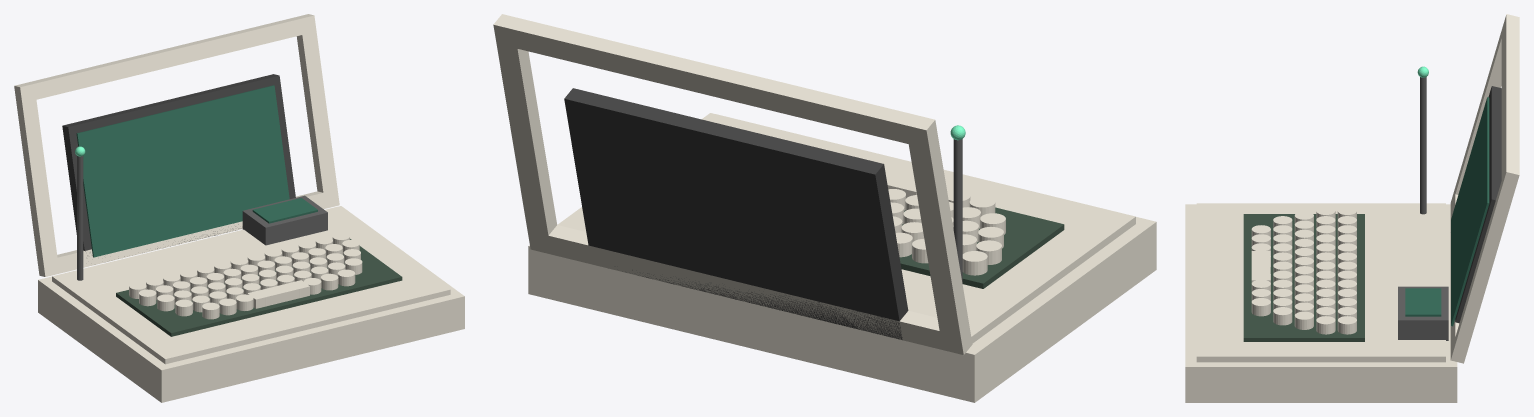
Rendered from build-vintage-writer.glb.
3 views of the same model, side by side, from view 1: azimuth 30°, elevation 25°; view 2: azimuth 150°, elevation 25°; view 3: azimuth 270°, elevation 25° (orthographic). The views are drawn at different scales.
Visible parts, largest first — view 1: geometry_7, geometry_1, geometry_0, geometry_2, geometry_6, geometry_8, geometry_4, geometry_5, geometry_3, geometry_67, geometry_62, geometry_68 (+1 smaller); view 2: geometry_6, geometry_0, geometry_1, geometry_2, geometry_3, geometry_4, geometry_5, geometry_8, geometry_69, geometry_9; view 3: geometry_1, geometry_0, geometry_8, geometry_7, geometry_2, geometry_5, geometry_6, geometry_67, geometry_4, geometry_68, geometry_69, geometry_3 (+6 smaller).
Boxes of the visible parts, <box> form: geometry_7: <box>76,85,289,257</box>; geometry_1: <box>52,206,450,364</box>; geometry_0: <box>38,206,464,402</box>; geometry_2: <box>14,14,316,102</box>; geometry_6: <box>62,74,295,258</box>; geometry_8: <box>116,239,402,336</box>; geometry_4: <box>14,82,59,276</box>; geometry_5: <box>296,14,339,208</box>; geometry_3: <box>37,189,339,276</box>; geometry_67: <box>242,195,327,245</box>; geometry_62: <box>247,280,309,308</box>; geometry_68: <box>252,198,317,223</box>; geometry_6: <box>564,88,908,339</box>; geometry_0: <box>528,113,1156,402</box>; geometry_1: <box>563,114,1135,343</box>; geometry_2: <box>493,14,938,148</box>; geometry_3: <box>527,225,972,354</box>; geometry_4: <box>906,115,971,354</box>; geometry_5: <box>493,14,557,254</box>; geometry_8: <box>899,207,1064,288</box>; geometry_69: <box>953,139,962,283</box>; geometry_9: <box>962,251,987,275</box>; geometry_1: <box>1196,203,1445,362</box>; geometry_0: <box>1185,204,1457,402</box>; geometry_8: <box>1243,214,1364,341</box>; geometry_7: <box>1451,97,1489,326</box>; geometry_2: <box>1501,14,1519,190</box>; geometry_5: <box>1451,165,1518,362</box>; geometry_6: <box>1455,86,1501,323</box>; geometry_67: <box>1398,286,1448,340</box>; geometry_4: <box>1450,14,1519,204</box>; geometry_68: <box>1405,288,1441,316</box>; geometry_69: <box>1420,77,1426,214</box>; geometry_3: <box>1450,188,1468,363</box>.
Bounding box in the file's own units: 0.34 × 0.2226 × 0.295.
